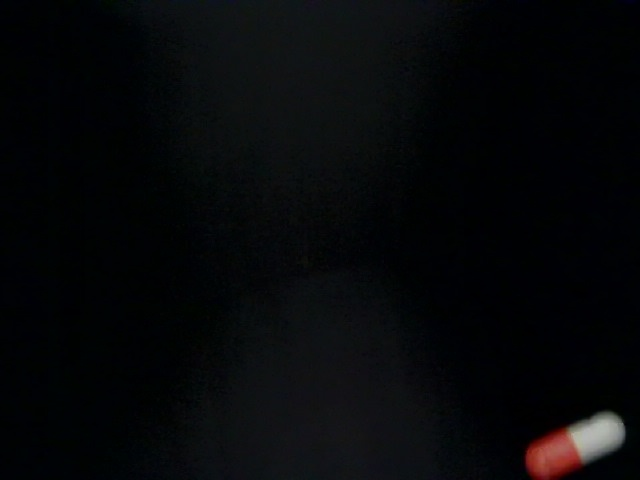YHLJ: (240, 227, 494, 320)
